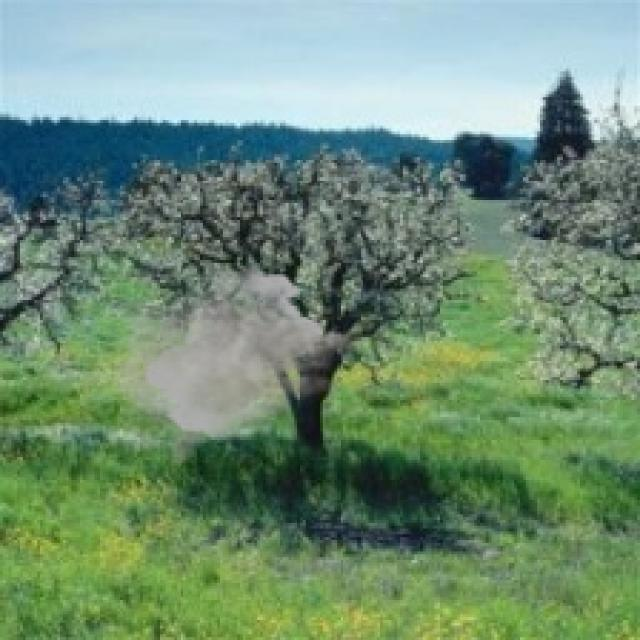smoke: (109, 263, 374, 468)
